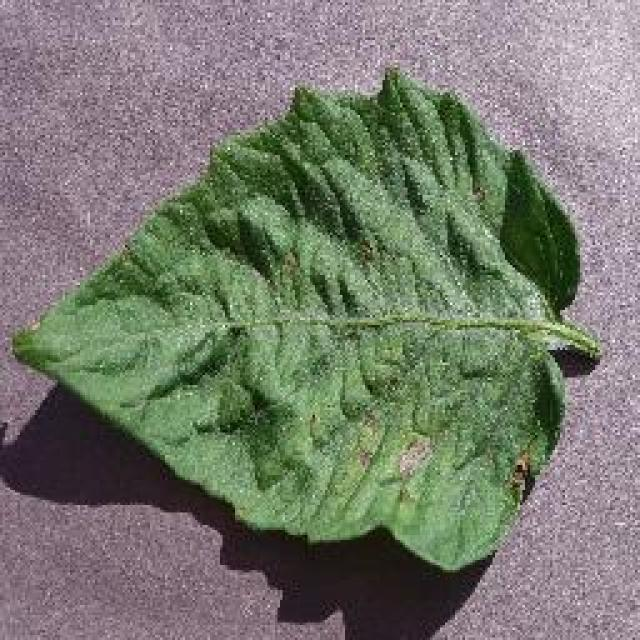Tom_Target_Spot: (335, 388, 464, 502), (486, 430, 546, 508)
